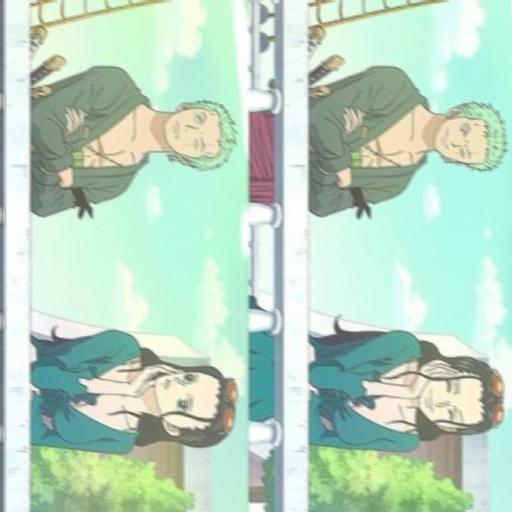NicoRobin: (404, 331, 502, 448), (128, 352, 236, 458)
Zoro: (429, 88, 507, 190), (150, 89, 236, 180)
